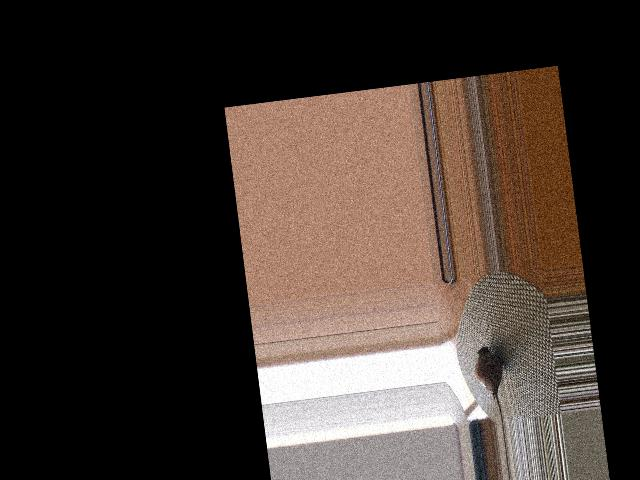beet: (472, 344, 508, 423)
